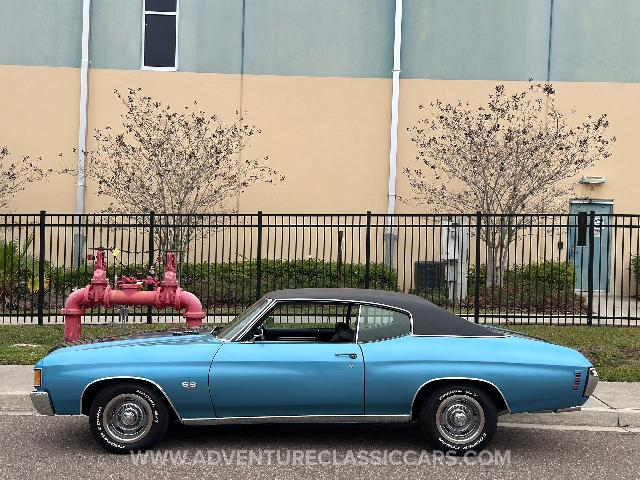chevelle-1972: (31, 288, 598, 455)
